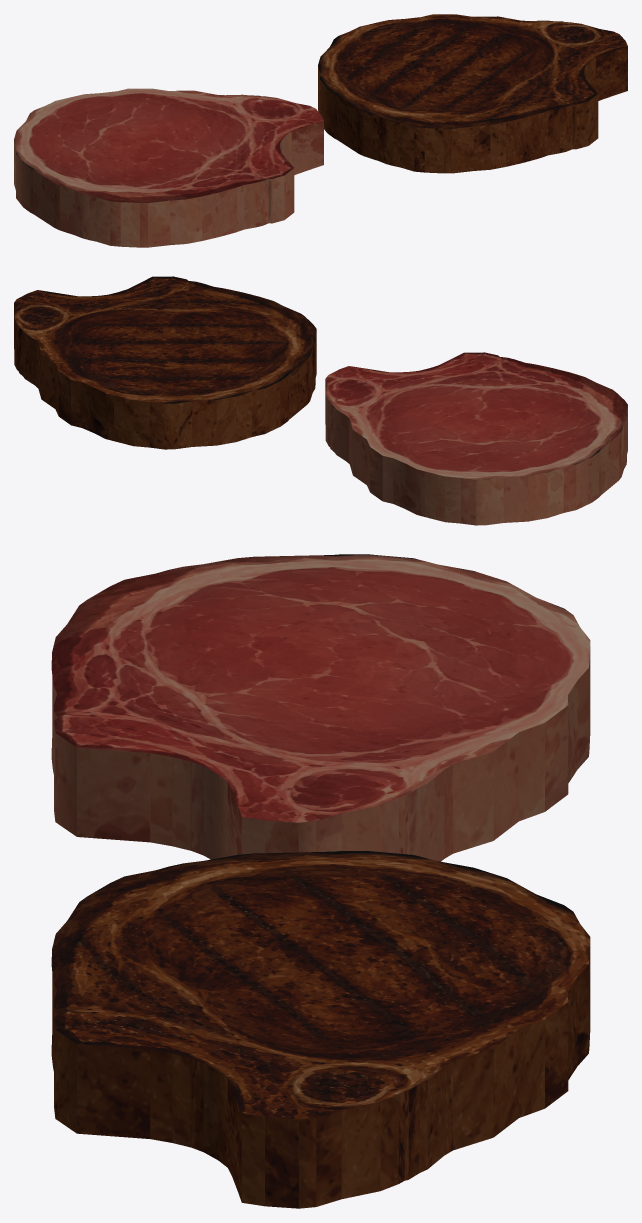
File: simple_lowpoly_meat.glb
The picture shows the model from 3 angles, top to bottom: view 1: azimuth 30°, elevation 25°; view 2: azimuth 150°, elevation 25°; view 3: azimuth 270°, elevation 25°; orthographic projection. The views are drawn at different scales.
Parts seen in each view (by area): view 1: RawMeat, GrilledMeat; view 2: GrilledMeat, RawMeat; view 3: GrilledMeat, RawMeat.
Boxes of the visible parts, left/top/right/bottom form: RawMeat: left=14, top=88, right=323, bottom=247; GrilledMeat: left=318, top=14, right=627, bottom=173; GrilledMeat: left=14, top=276, right=316, bottom=449; RawMeat: left=325, top=352, right=627, bottom=525; GrilledMeat: left=51, top=851, right=590, bottom=1208; RawMeat: left=51, top=554, right=590, bottom=861.
Bounding box in the file's own units: 28.75 × 2.12 × 11.59.
Materials: 2 (2 with a texture image).
